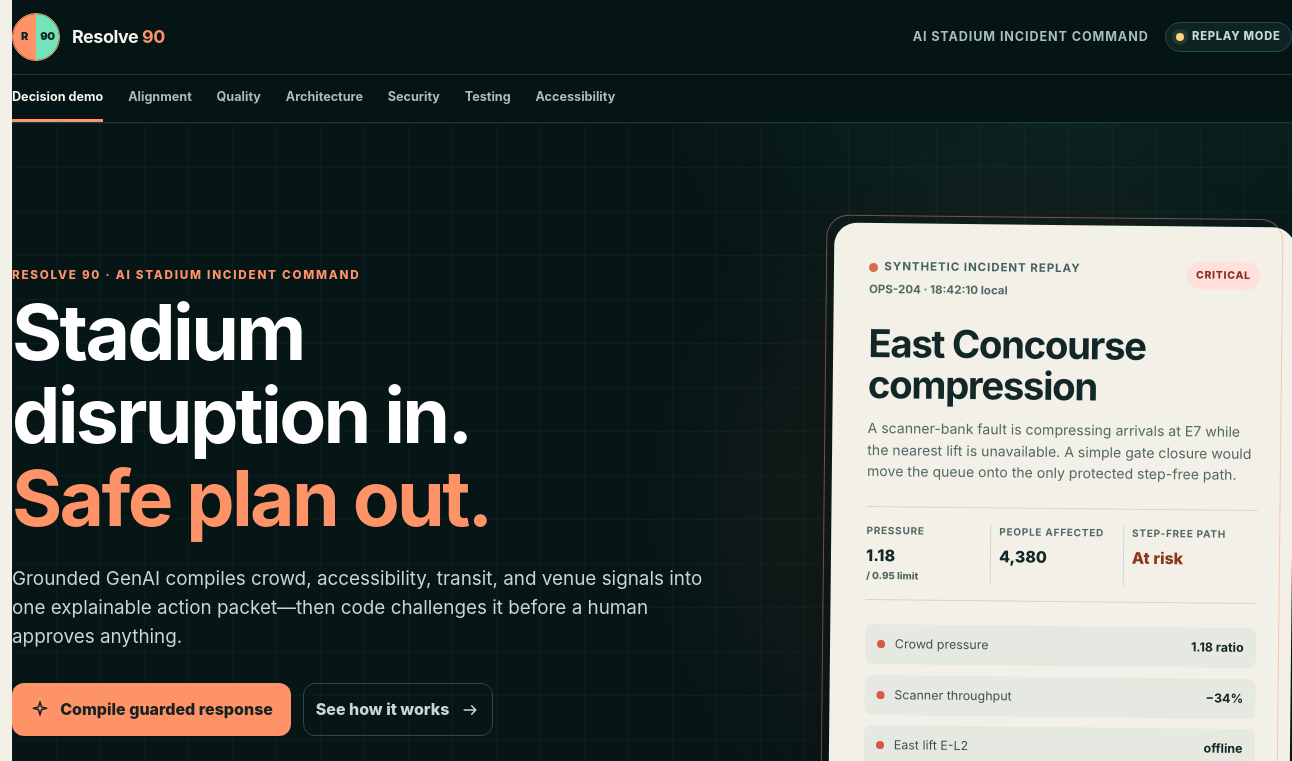
visible decision workflow › surfaces reasoning, confidence, constraints, validation, and rejected alternatives
Step 1. Click the button "Compile guarded response" → (151, 710), box [12, 683, 291, 736]
(page scrolled)
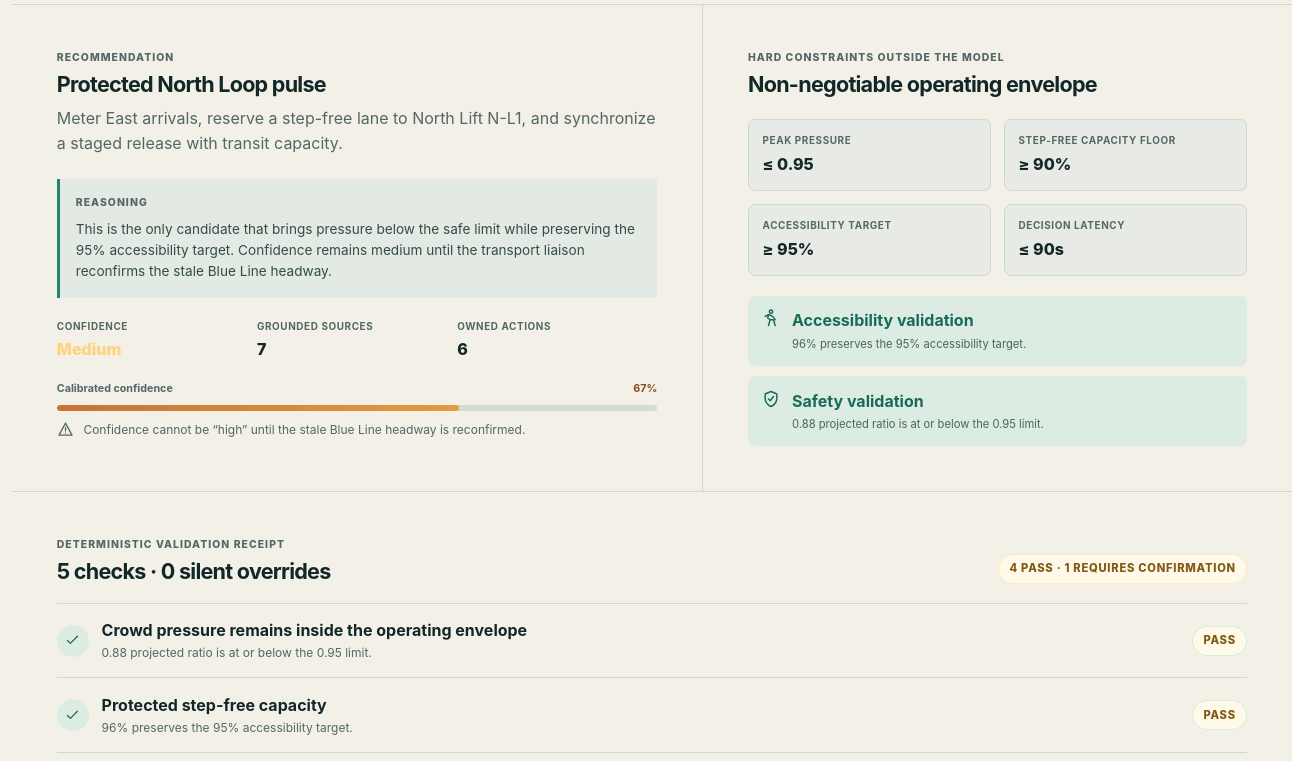
expect the text "medium" is shown: met, box [57, 339, 121, 359]
expect the heading "Non-negotiable operating envelope" is shown: met, box [748, 71, 1097, 97]
expect the text "Accessibility validation" is shown: met, box [792, 310, 974, 330]
